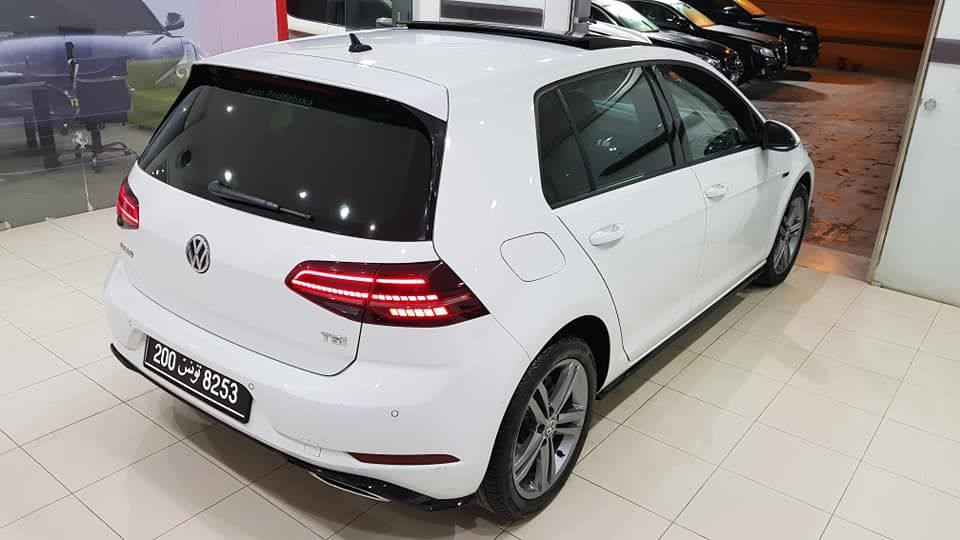LP: (145, 335, 247, 416)
